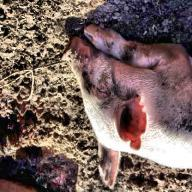boar: (60, 25, 192, 188)
